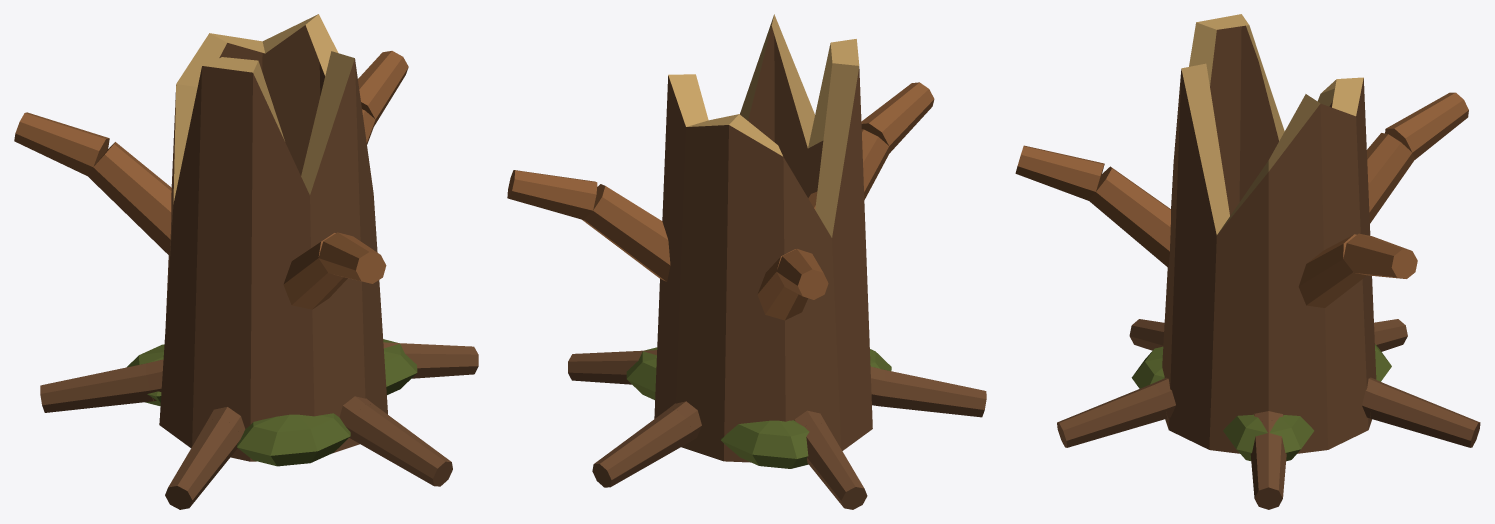
The model's file is driftwood.glb.
3 renders of one model, left to right at view 1: azimuth 30°, elevation 25°; view 2: azimuth 150°, elevation 25°; view 3: azimuth 270°, elevation 25°, orthographic. The views are drawn at different scales.
Parts seen in each view (by area): view 1: driftwood; view 2: driftwood; view 3: driftwood.
Part boxes in pixels (x1=…): driftwood: x1=14, y1=14, x2=478, y2=509; driftwood: x1=507, y1=14, x2=986, y2=509; driftwood: x1=1015, y1=14, x2=1480, y2=509.
Bounding box in the file's own units: 1.77 × 1.79 × 2.03.
